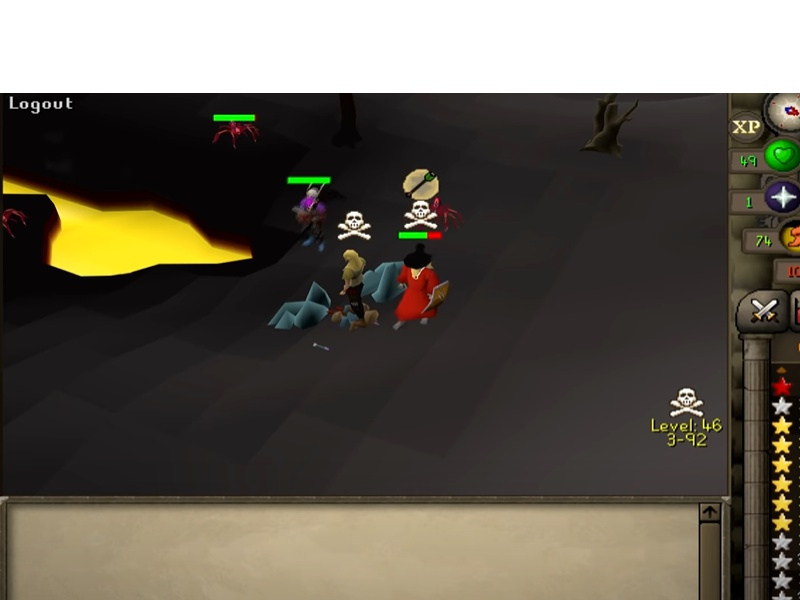rune: (265, 278, 333, 333), (357, 256, 409, 306)
